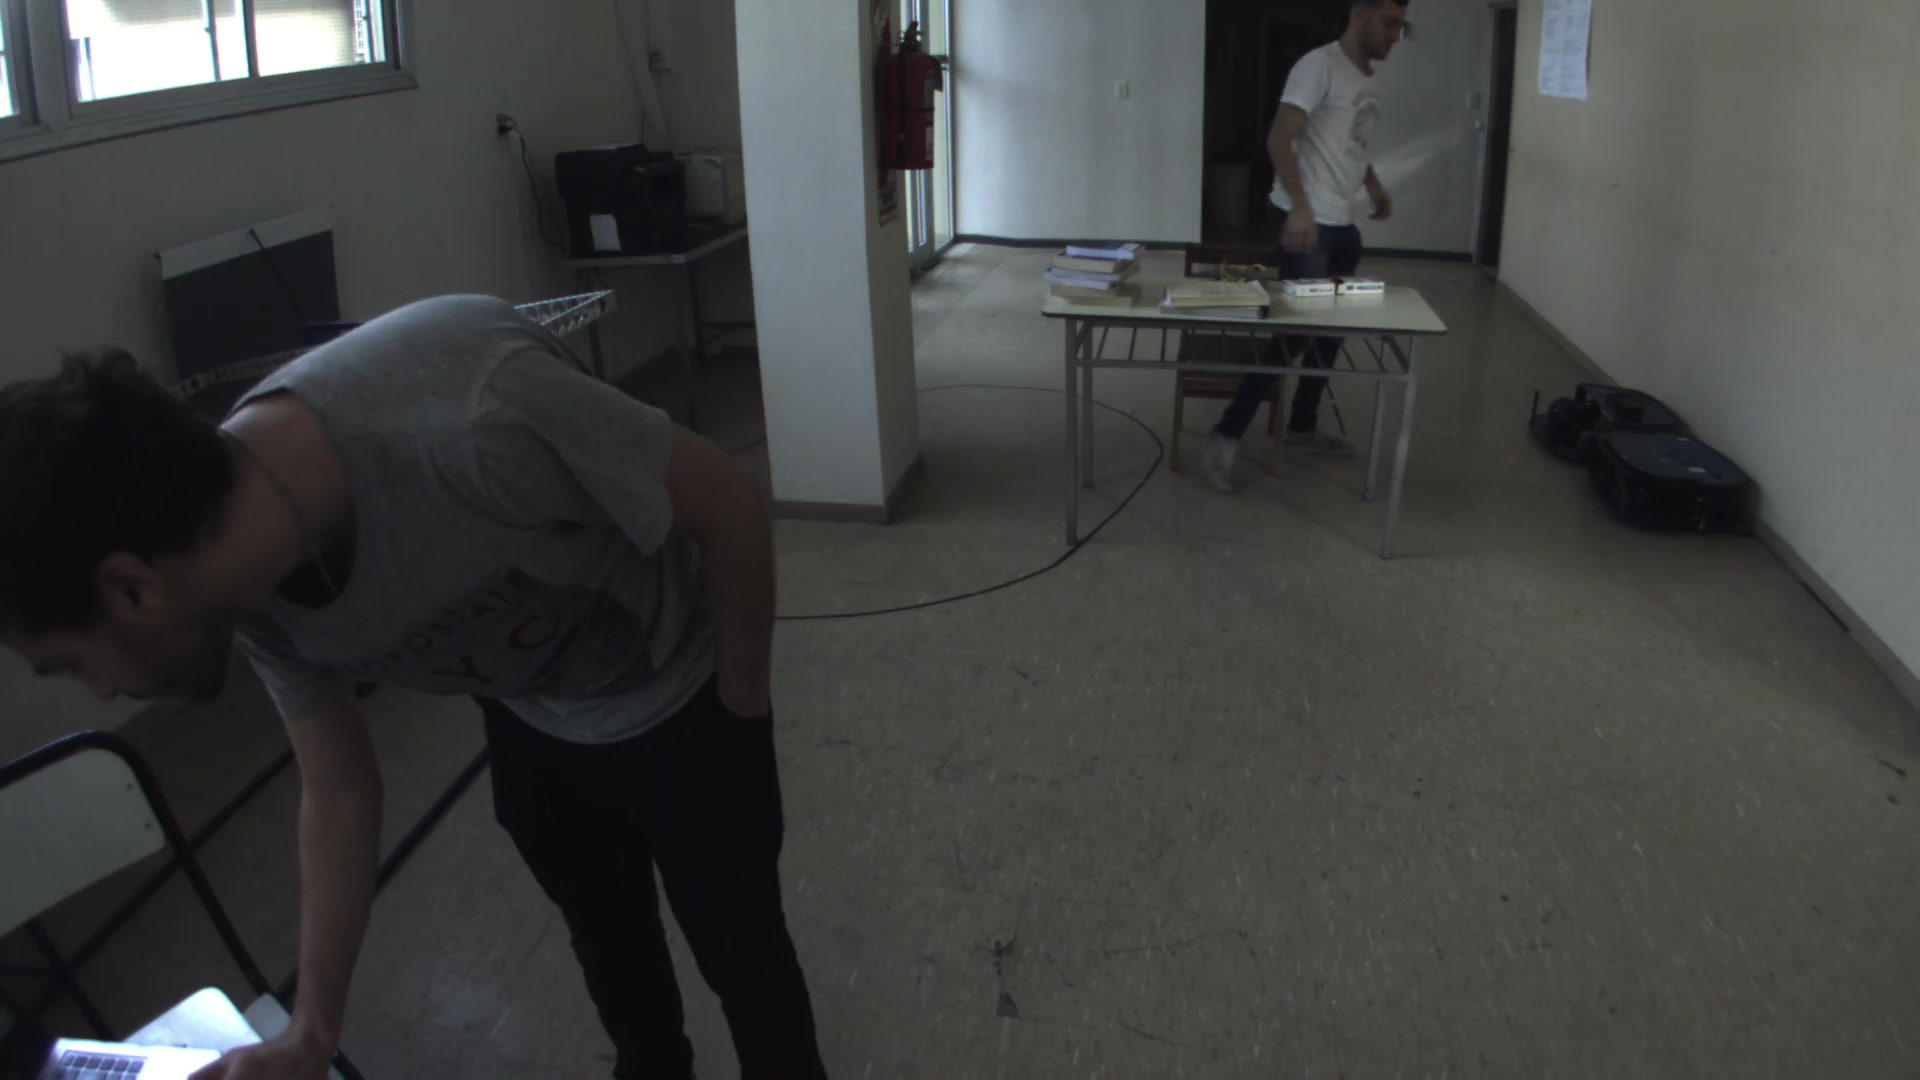hand: (1271, 196, 1324, 251)
